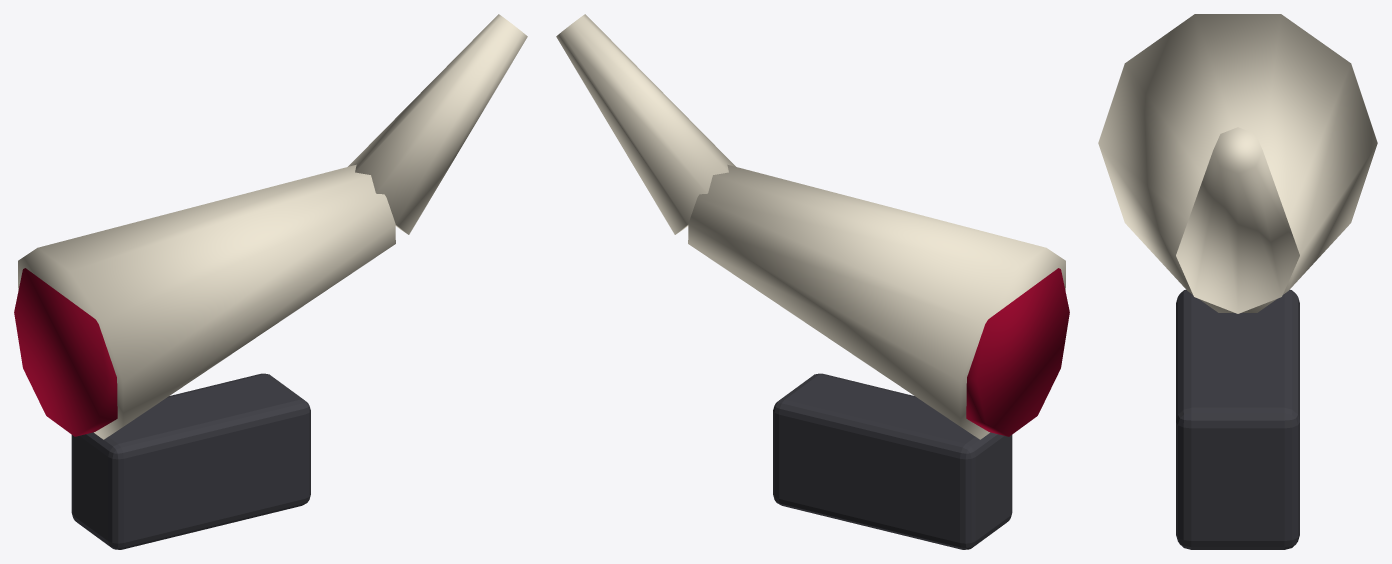
File: chalice_blood_horn.glb
3 renders of one model, left to right at view 1: azimuth 30°, elevation 25°; view 2: azimuth 150°, elevation 25°; view 3: azimuth 270°, elevation 25°, orthographic. The views are drawn at different scales.
Parts seen in each view (by area): view 1: GD_chalice_blood_horn__m0, GD_chalice_blood_horn__m2, GD_chalice_blood_horn__m1; view 2: GD_chalice_blood_horn__m0, GD_chalice_blood_horn__m2, GD_chalice_blood_horn__m1; view 3: GD_chalice_blood_horn__m0, GD_chalice_blood_horn__m2.
Boxes of the visible parts, x1,y1,x2,y2 form: GD_chalice_blood_horn__m0: (18, 14, 527, 439); GD_chalice_blood_horn__m2: (71, 373, 310, 549); GD_chalice_blood_horn__m1: (14, 268, 117, 436); GD_chalice_blood_horn__m0: (556, 14, 1065, 439); GD_chalice_blood_horn__m2: (773, 373, 1012, 549); GD_chalice_blood_horn__m1: (966, 268, 1069, 436); GD_chalice_blood_horn__m0: (1098, 14, 1377, 313); GD_chalice_blood_horn__m2: (1176, 289, 1299, 549).
Bounding box in the file's own units: 0.2341 × 0.2007 × 0.09.
